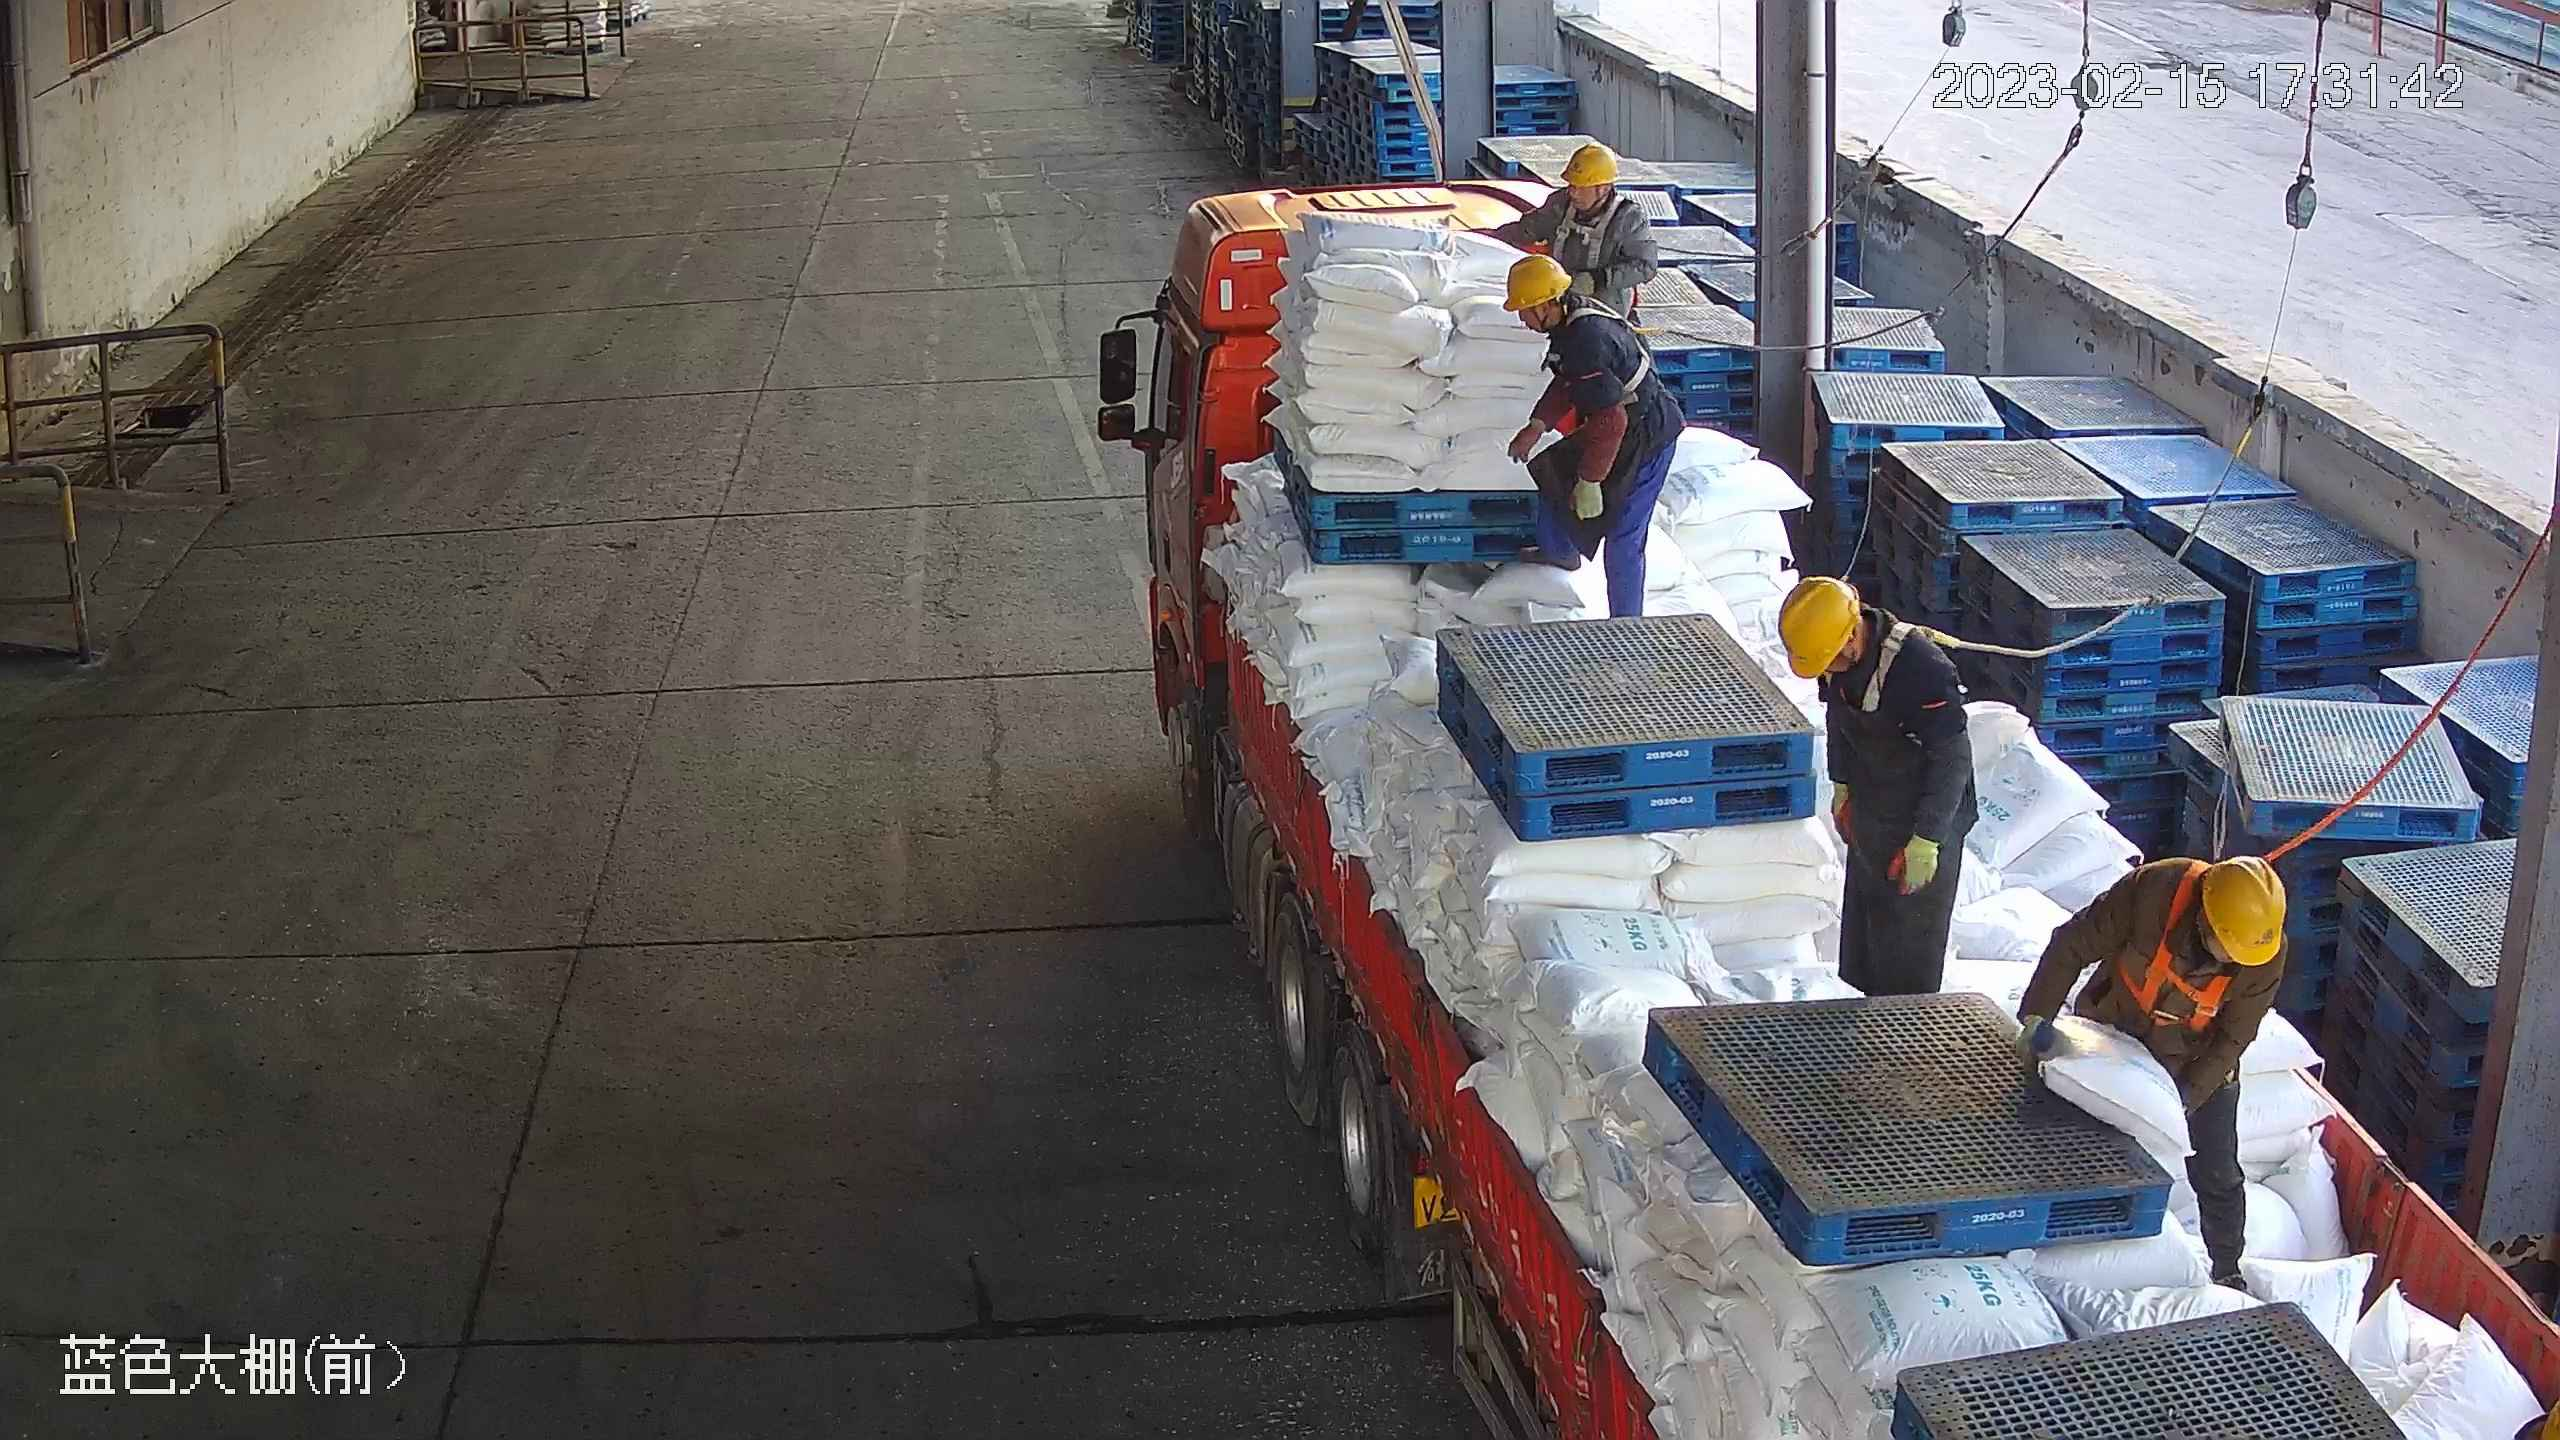belt: (2116, 847, 2297, 1031), (1821, 616, 1973, 716), (1543, 294, 1682, 403), (1547, 191, 1671, 274)
head: (1775, 576, 1967, 717), (2123, 853, 2290, 977), (1501, 253, 1660, 374), (1545, 142, 1649, 224)
helmet: (2199, 853, 2288, 967), (1776, 577, 1861, 680), (1502, 254, 1572, 313), (1560, 143, 1618, 187)
people: (2016, 853, 2290, 1291), (1774, 577, 1983, 1000), (1502, 254, 1687, 626), (1474, 142, 1659, 356)
truck: (1143, 173, 2560, 1440)
